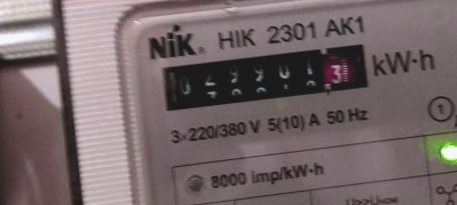0: (274, 55, 291, 81), (175, 73, 193, 96)
1: (299, 53, 315, 77)
2: (199, 67, 217, 88)
3: (327, 61, 343, 84)
9: (250, 60, 266, 83), (225, 63, 239, 86)
screen: (147, 32, 379, 122)
